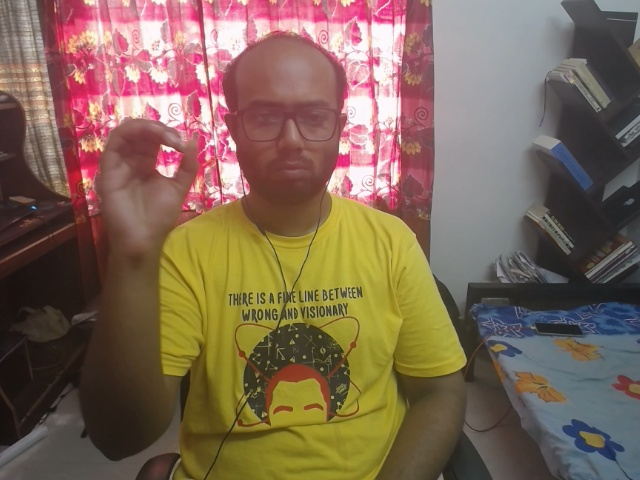zero: (72, 108, 243, 292)
